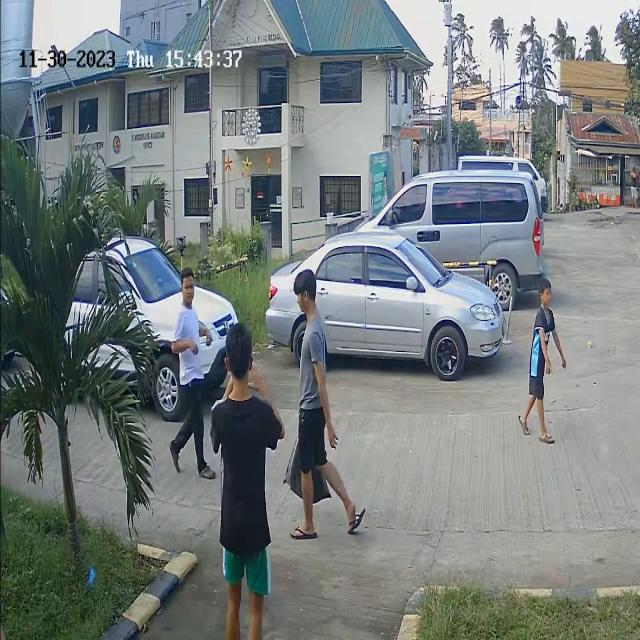person: (220, 315, 258, 455), (290, 274, 328, 401), (531, 278, 571, 387), (170, 270, 217, 360)
